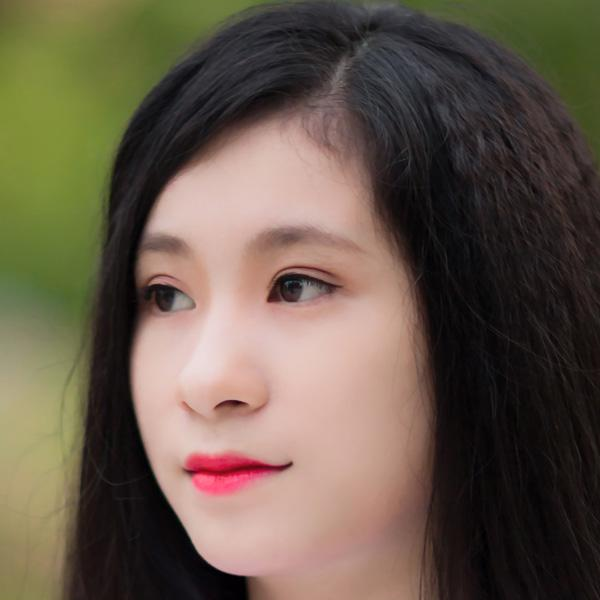Eyes: (251, 259, 351, 321), (134, 268, 204, 322)
